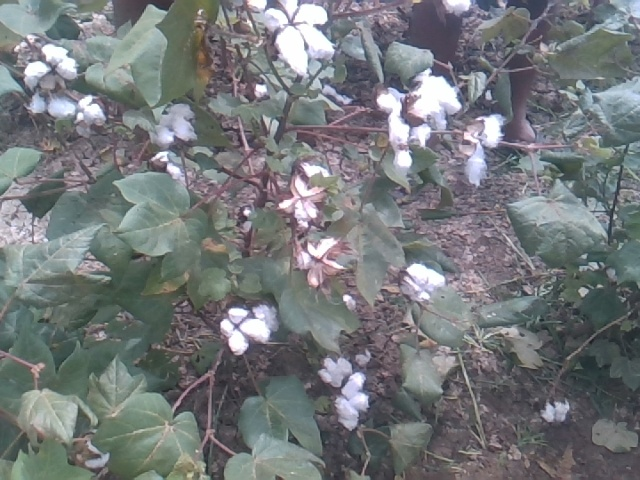cotton: (265, 4, 334, 78), (375, 84, 414, 171), (462, 112, 506, 187), (414, 68, 460, 127), (218, 306, 272, 356), (25, 41, 76, 92), (279, 177, 329, 222), (148, 103, 197, 148), (335, 373, 371, 433), (400, 263, 446, 302), (75, 93, 108, 139), (151, 152, 193, 182), (302, 235, 339, 266), (31, 95, 75, 121), (318, 355, 350, 388), (249, 301, 282, 333), (539, 397, 574, 424), (442, 1, 476, 16), (239, 207, 255, 237)
